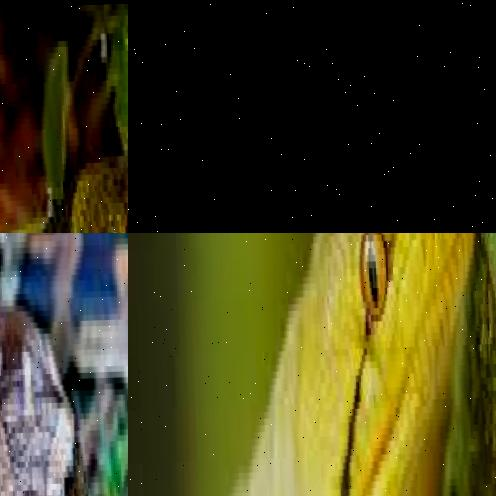snake: (128, 233, 491, 496), (0, 233, 128, 496), (0, 0, 128, 233)
